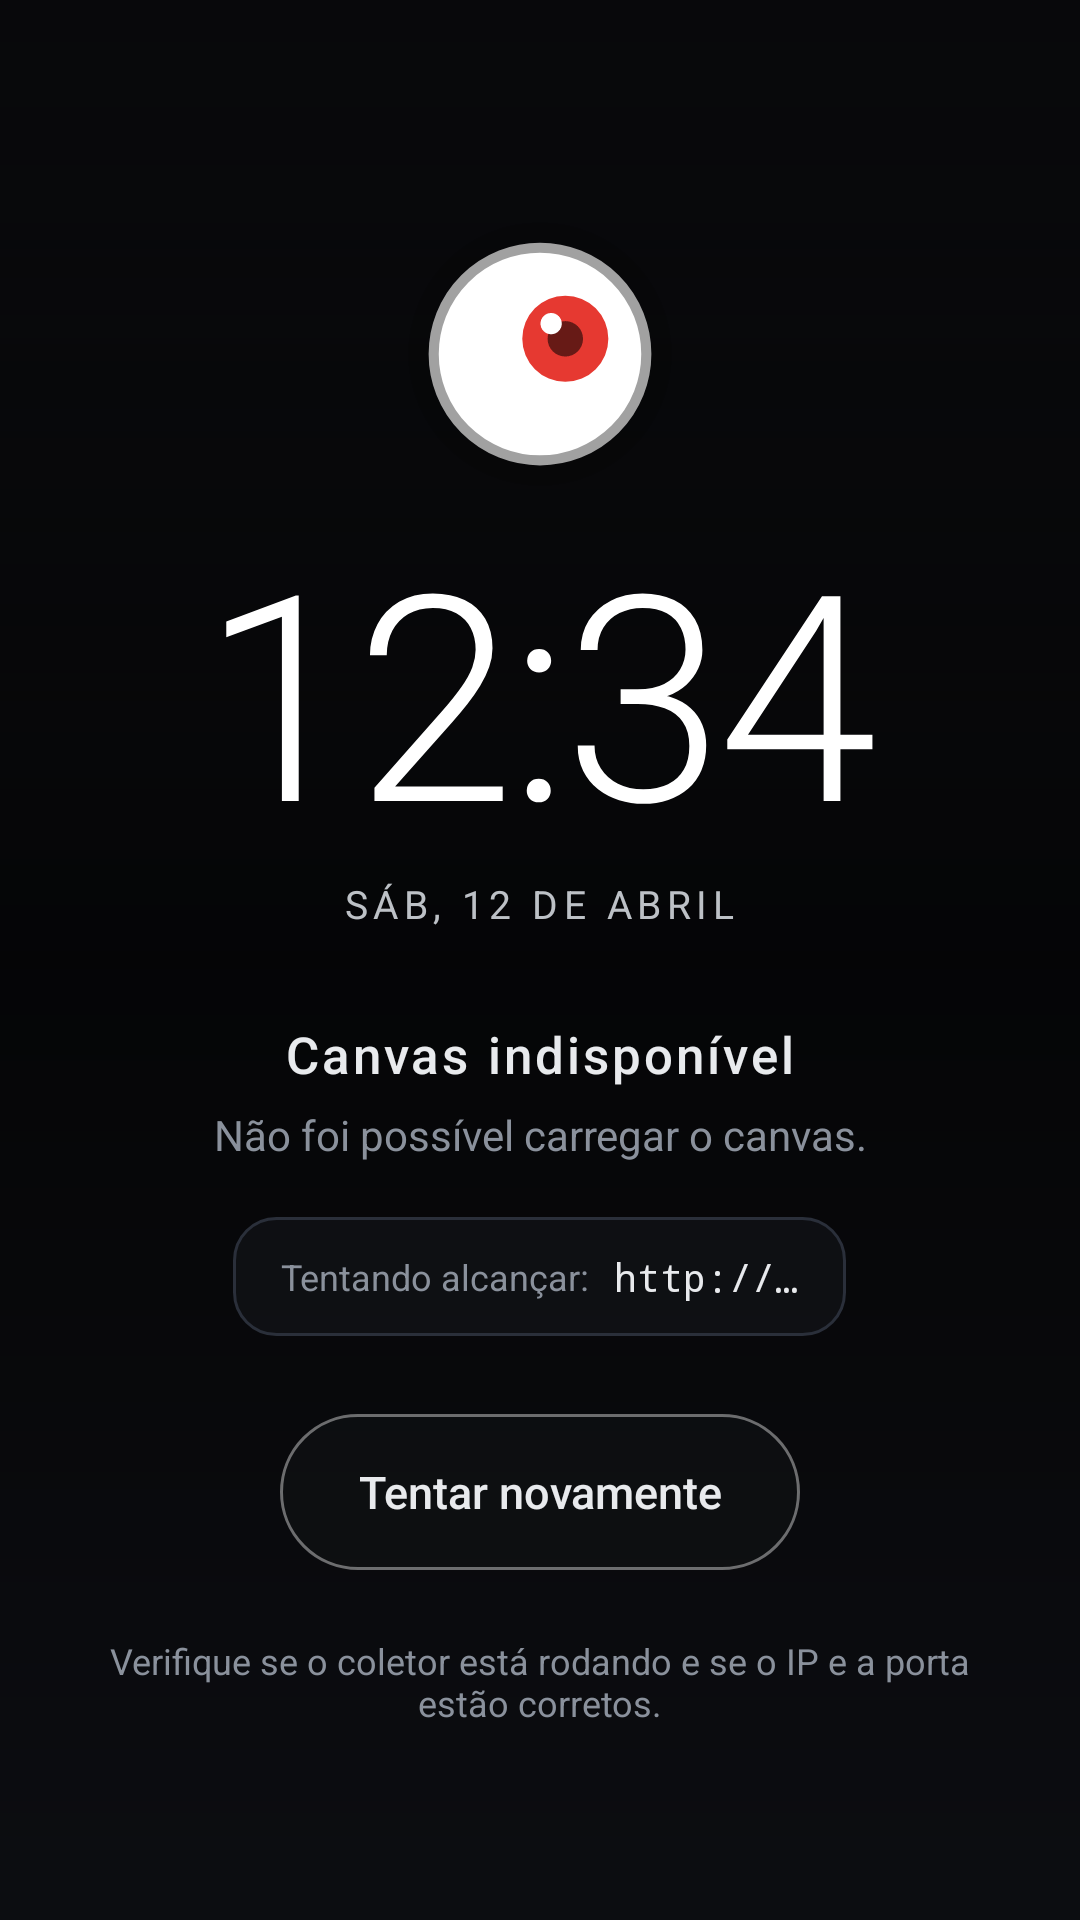

Named icons in this screenshot (1080px×1920px) and their centers, [x,y]:
vigia eye: [540,354]
